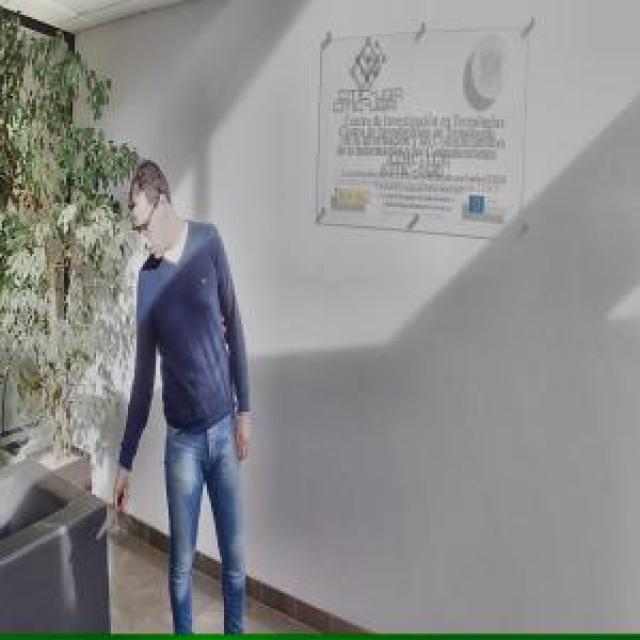knife: (94, 480, 131, 543)
